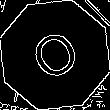O_SE: (24, 23, 86, 87)
